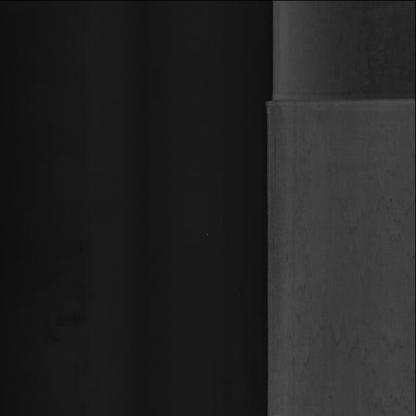welding_line: (261, 83, 416, 113)
